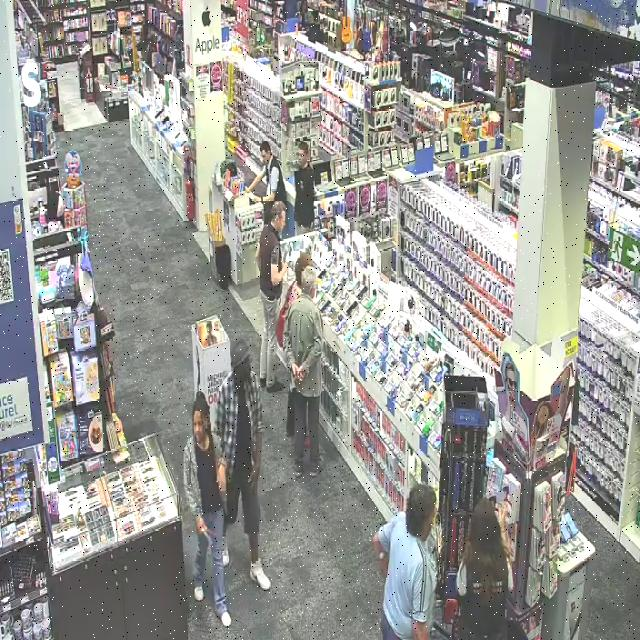article: (202, 526, 213, 545)
bags: (277, 284, 294, 347)
hands: (249, 464, 259, 495), (378, 552, 389, 578), (196, 517, 208, 535), (219, 466, 226, 493), (297, 367, 308, 382), (291, 363, 299, 380), (253, 196, 261, 203), (282, 263, 289, 271)
person: (216, 339, 270, 589), (184, 393, 230, 626), (374, 485, 436, 639), (284, 266, 322, 477), (457, 498, 512, 639), (257, 201, 288, 392), (247, 142, 286, 218), (295, 142, 315, 234)
